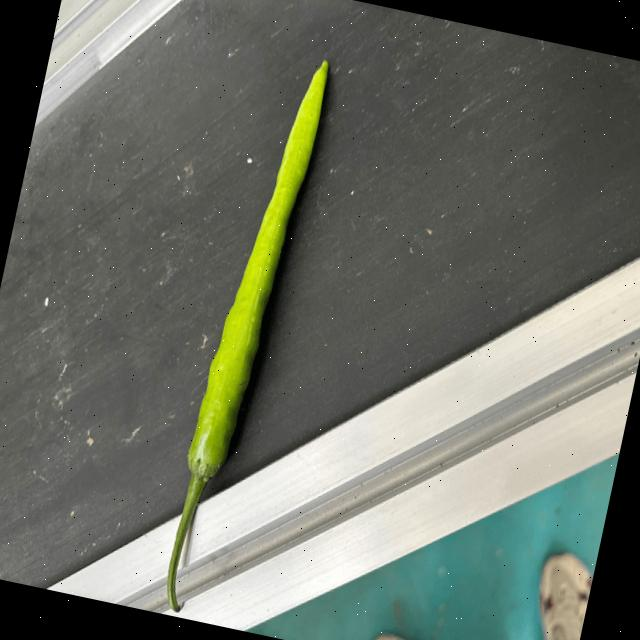chili: (184, 56, 329, 481)
